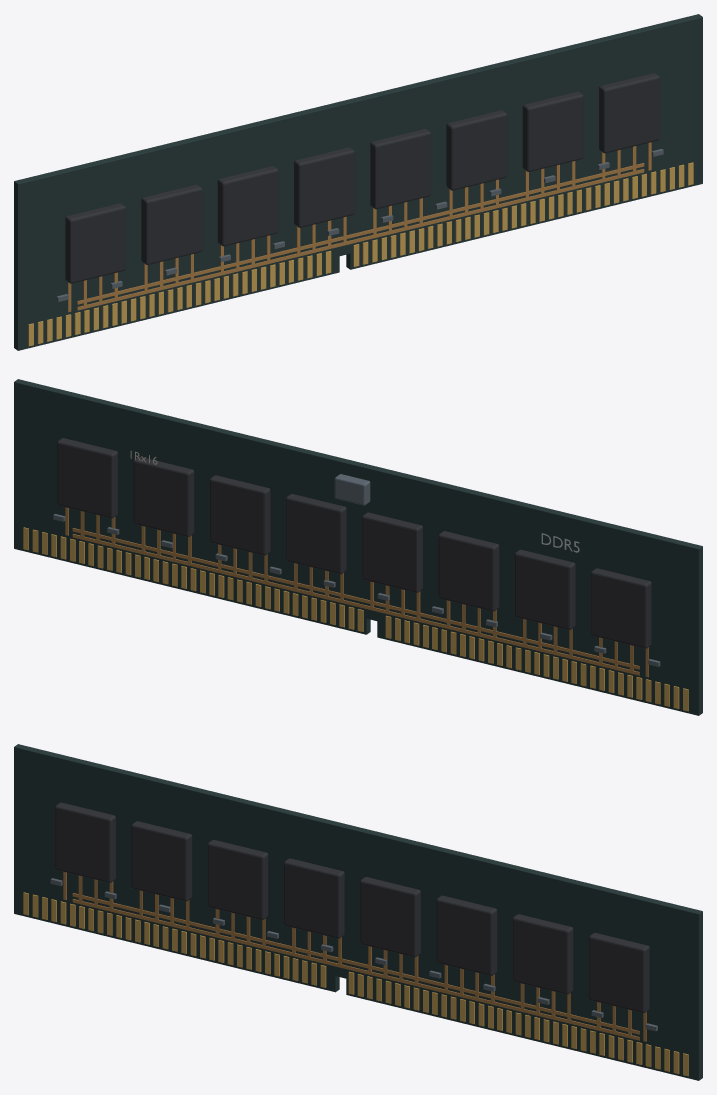
File: ram-ddr5.glb
3 views of the same model, one above another, from view 1: azimuth 30°, elevation 25°; view 2: azimuth 150°, elevation 25°; view 3: azimuth 330°, elevation 25° (orthographic).
Parts seen in each view (by area): view 1: RAM_PCB_Deep_Slate, RAM_Chip_Ceramic, RAM_Contact_Gold, RAM_Trace_Copper, RAM_Metal_Dark_Steel; view 2: RAM_PCB_Deep_Slate, RAM_Chip_Ceramic, RAM_Contact_Gold, RAM_Trace_Copper, RAM_Metal_Dark_Steel; view 3: RAM_PCB_Deep_Slate, RAM_Chip_Ceramic, RAM_Contact_Gold, RAM_Trace_Copper, RAM_Metal_Dark_Steel.
Part boxes in pixels (box(x1,y1,x2,y2)): RAM_PCB_Deep_Slate: box(14, 14, 702, 350); RAM_Chip_Ceramic: box(65, 73, 659, 283); RAM_Contact_Gold: box(28, 162, 693, 346); RAM_Trace_Copper: box(68, 142, 651, 312); RAM_Metal_Dark_Steel: box(56, 149, 663, 301); RAM_PCB_Deep_Slate: box(14, 379, 702, 715); RAM_Chip_Ceramic: box(57, 438, 651, 648); RAM_Contact_Gold: box(23, 527, 688, 711); RAM_Trace_Copper: box(65, 507, 648, 677); RAM_Metal_Dark_Steel: box(53, 474, 660, 666); RAM_PCB_Deep_Slate: box(14, 744, 702, 1080); RAM_Chip_Ceramic: box(55, 802, 649, 1013); RAM_Contact_Gold: box(23, 892, 688, 1076); RAM_Trace_Copper: box(63, 872, 646, 1041); RAM_Metal_Dark_Steel: box(50, 878, 657, 1031).
Bounding box in the file's own units: 0.133 × 0.031 × 0.0058.
